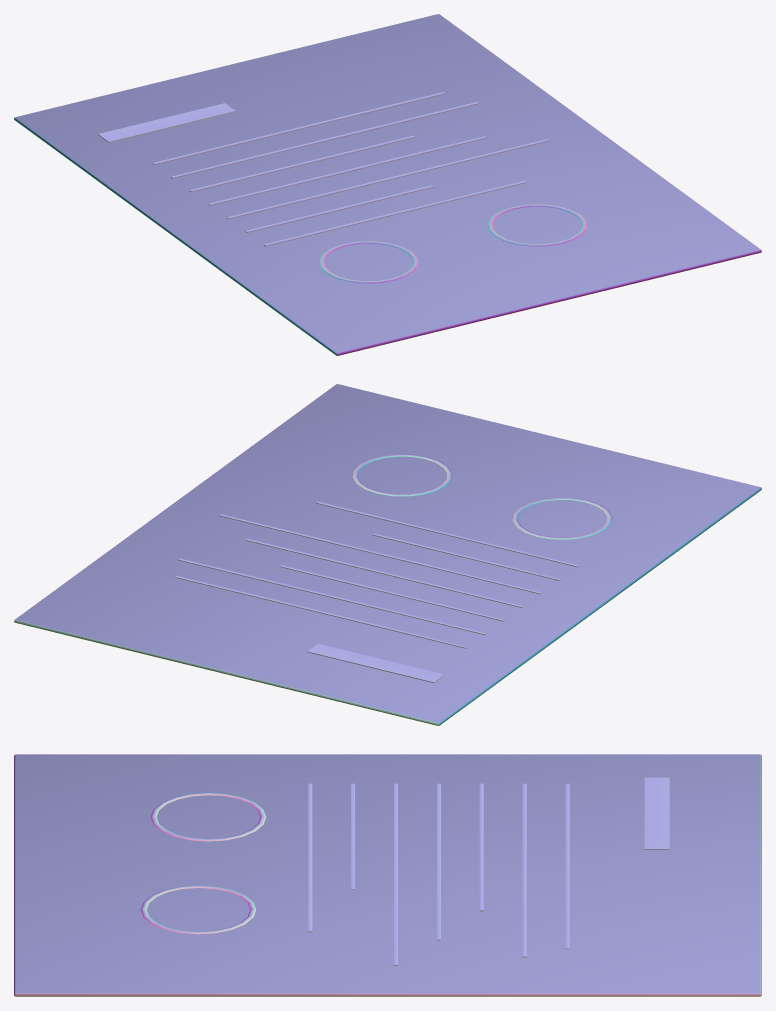
The model's file is env_deco_paper.glb.
The picture shows the model from 3 angles, top to bottom: view 1: azimuth 30°, elevation 25°; view 2: azimuth 150°, elevation 25°; view 3: azimuth 270°, elevation 25°; orthographic projection. The views are drawn at different scales.
Visible parts, largest first — view 1: env_deco_paper_mesh; view 2: env_deco_paper_mesh; view 3: env_deco_paper_mesh.
Part boxes in pixels (x1,y1,x2,y2): env_deco_paper_mesh: [14, 14, 761, 355]; env_deco_paper_mesh: [14, 384, 761, 725]; env_deco_paper_mesh: [14, 754, 761, 996].
Bounding box in the file's own units: 0.57 × 0.00675 × 0.75.
